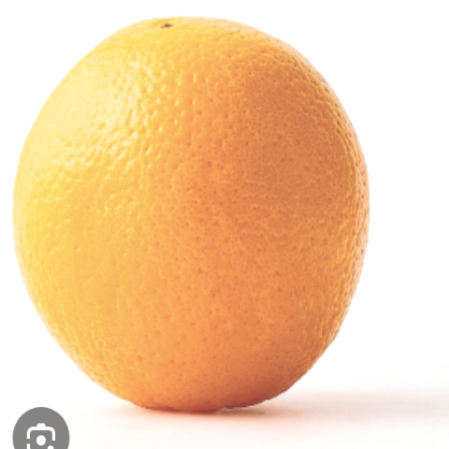orange: (0, 13, 407, 449)
